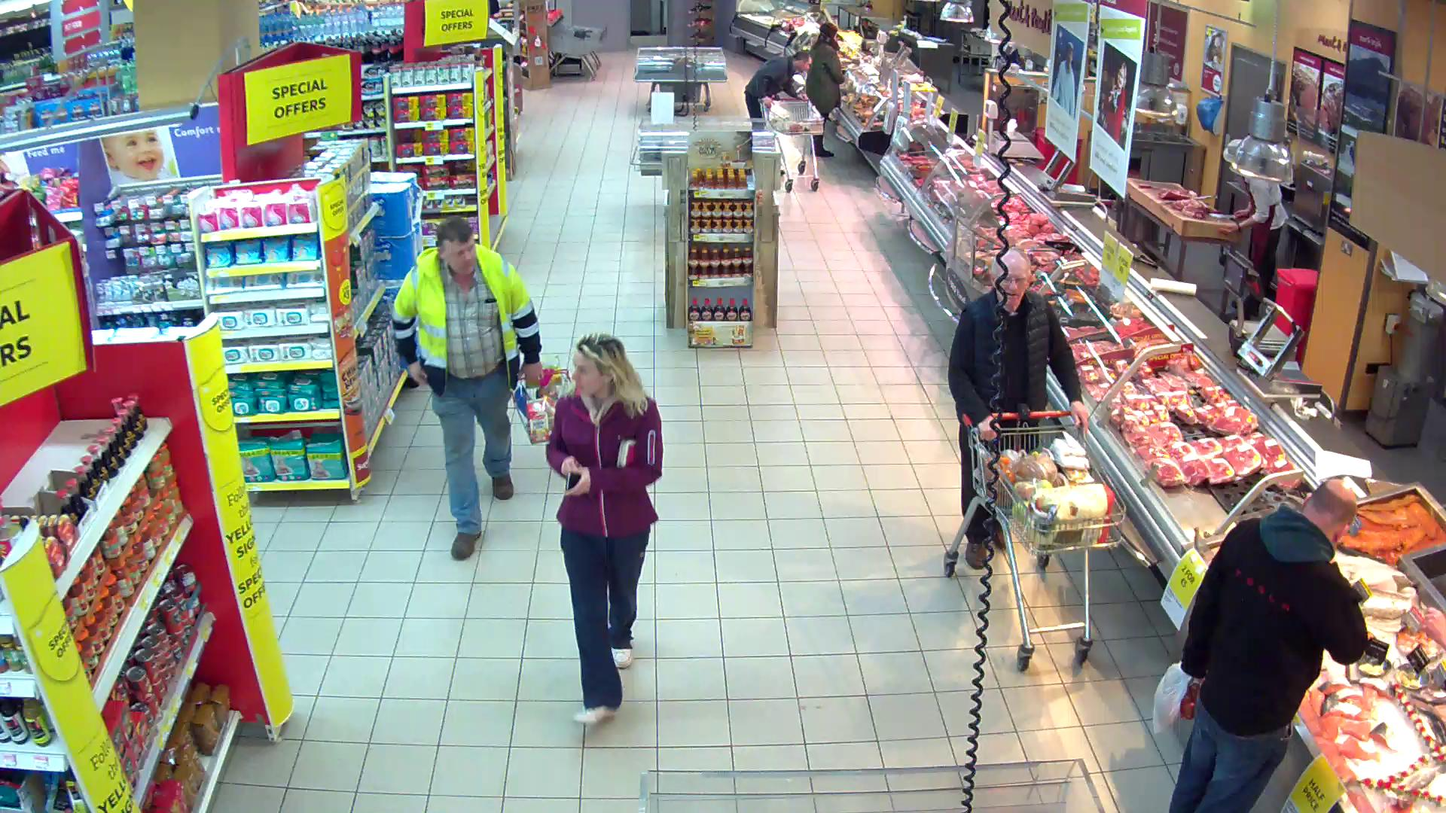filled-basket: (511, 346, 582, 444)
filled-trolly: (945, 405, 1126, 671)
person: (394, 218, 543, 563), (949, 248, 1089, 569)
person-with-filled-basket-trolly: (945, 247, 1126, 671), (393, 218, 582, 562)
